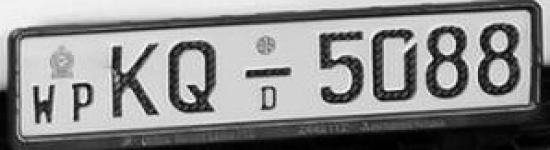-: (242, 63, 294, 84)
0: (366, 24, 422, 106)
5: (314, 27, 368, 109)
8: (420, 24, 473, 102), (475, 16, 523, 102)
K: (107, 38, 166, 125)
P: (69, 78, 98, 125)
Q: (164, 36, 226, 118)
W: (28, 82, 62, 128)
